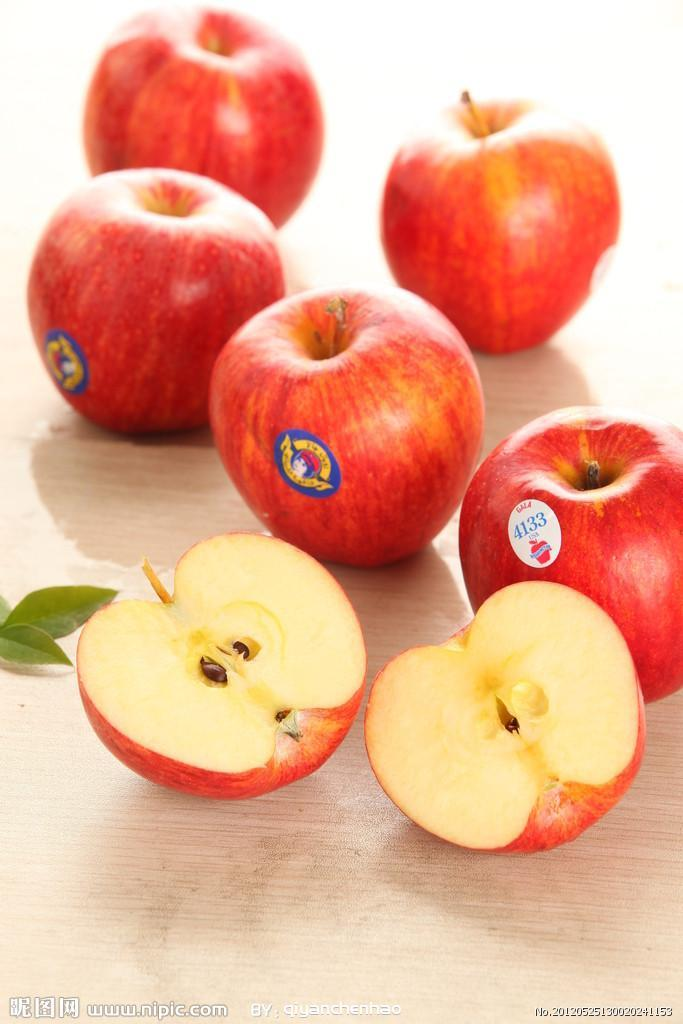apple: (203, 272, 484, 561), (31, 174, 292, 435), (462, 403, 683, 695), (380, 100, 626, 358), (75, 3, 330, 223)
